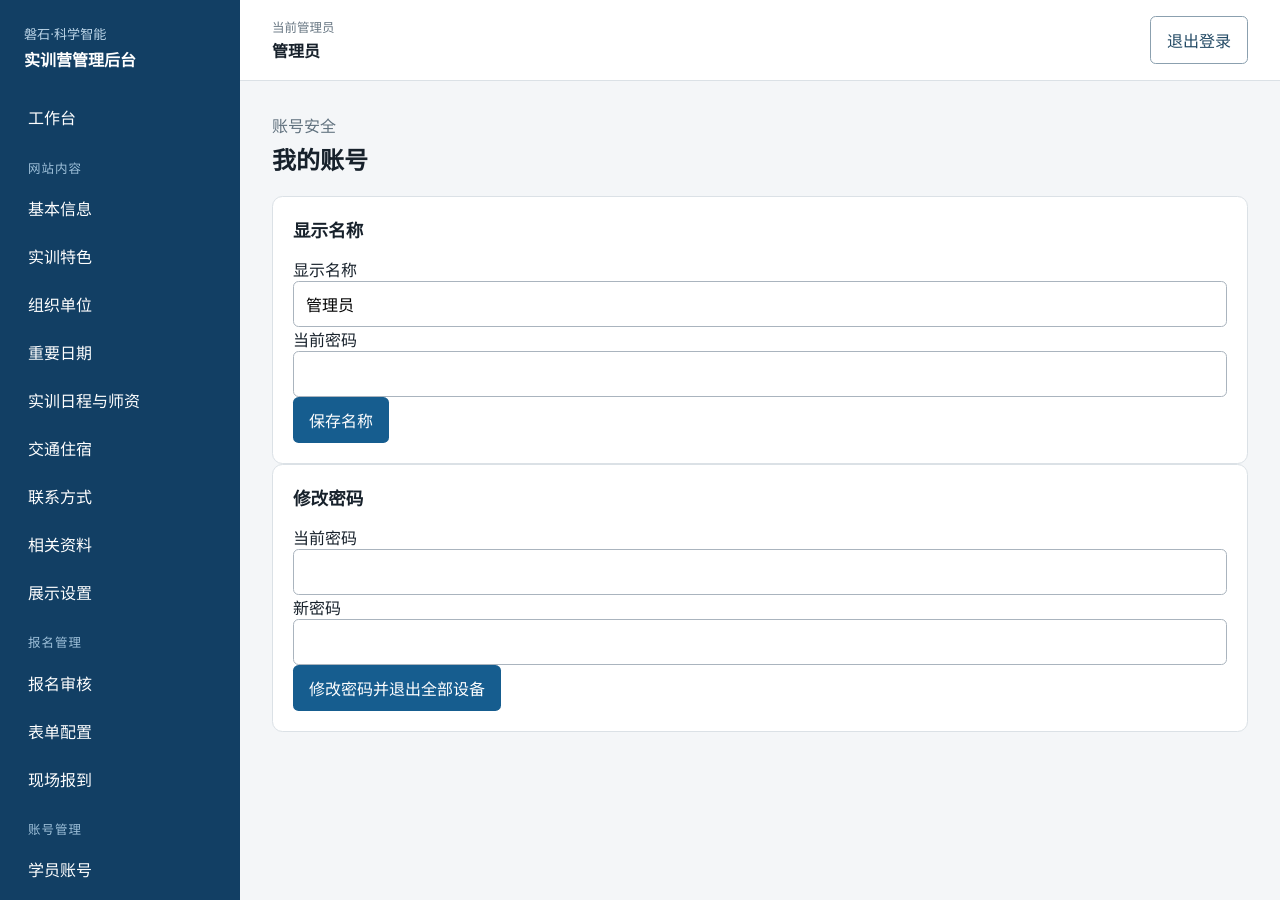
administrator route guard › changes the current administrator password and returns to login
This screenshot has width=1280, height=900.
Expected: the heading "我的账号" is shown, [272,141,368,176]
In the 2nd password field labelled "当前密码": [760, 572] box [293,549,1227,595], type "CurrentAdmin!2026"
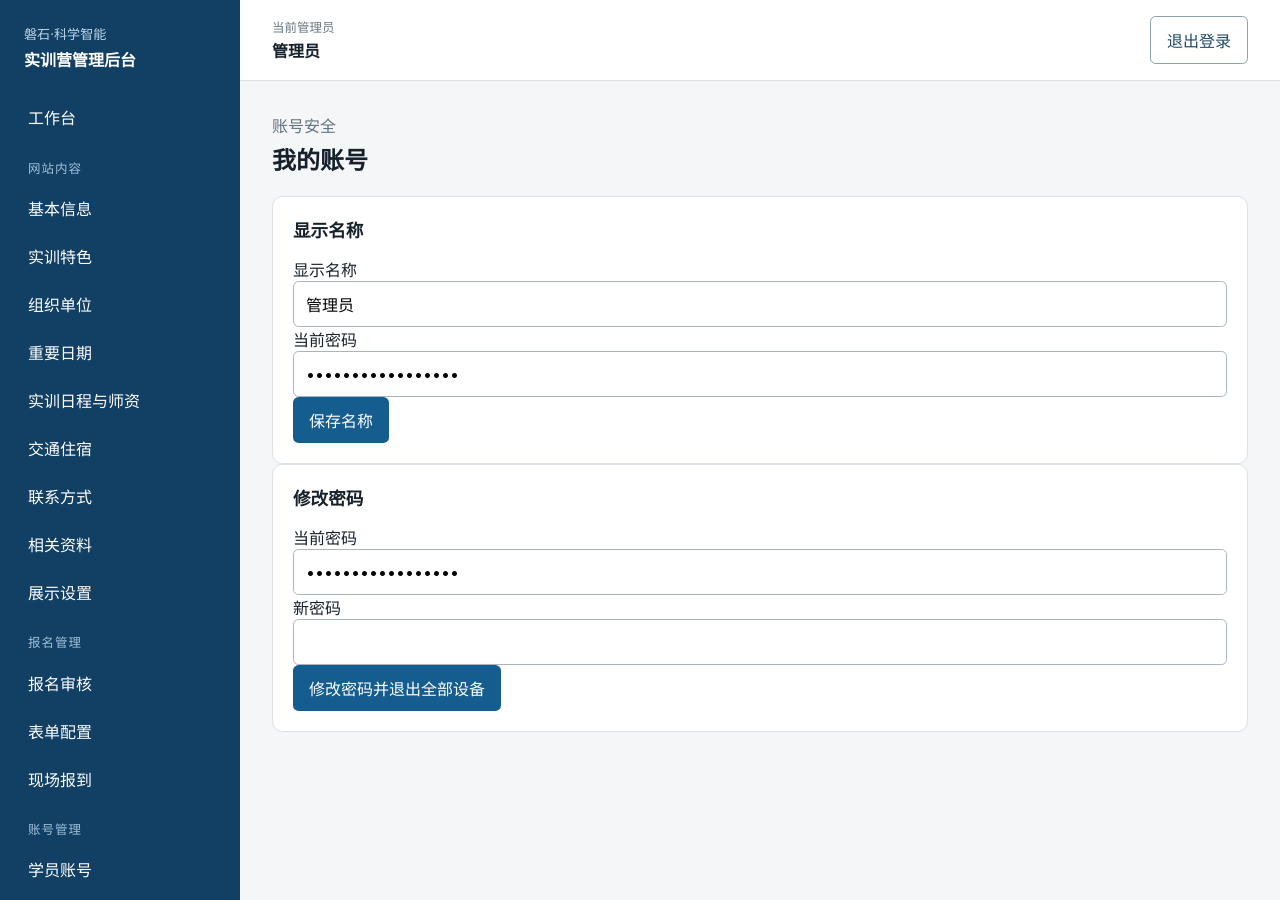
In the password field labelled "新密码": [760, 642] box [293,619,1227,665], type "ChangedAdmin!2026"
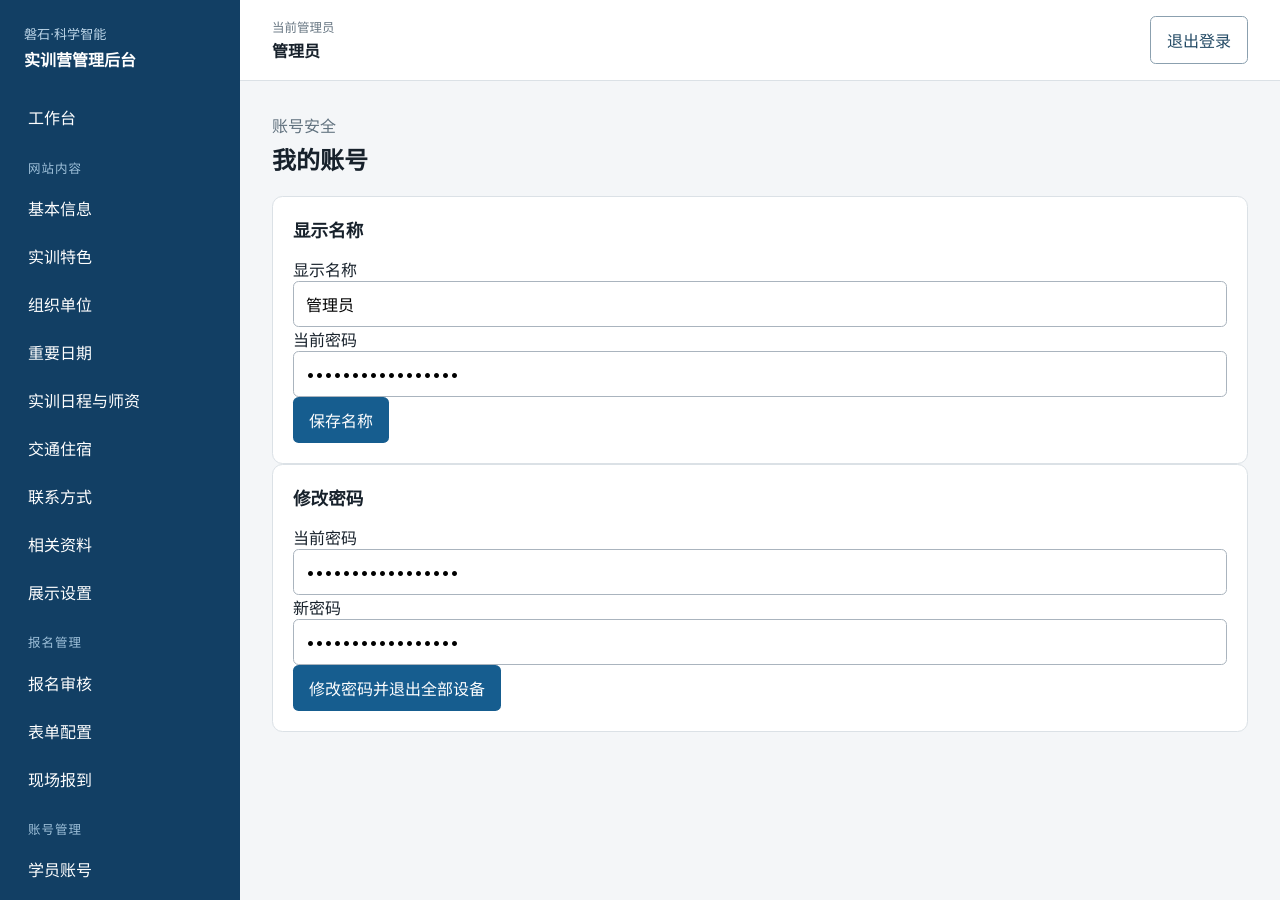
Click the button "修改密码并退出全部设备": [397, 688] box [293,665,501,711]
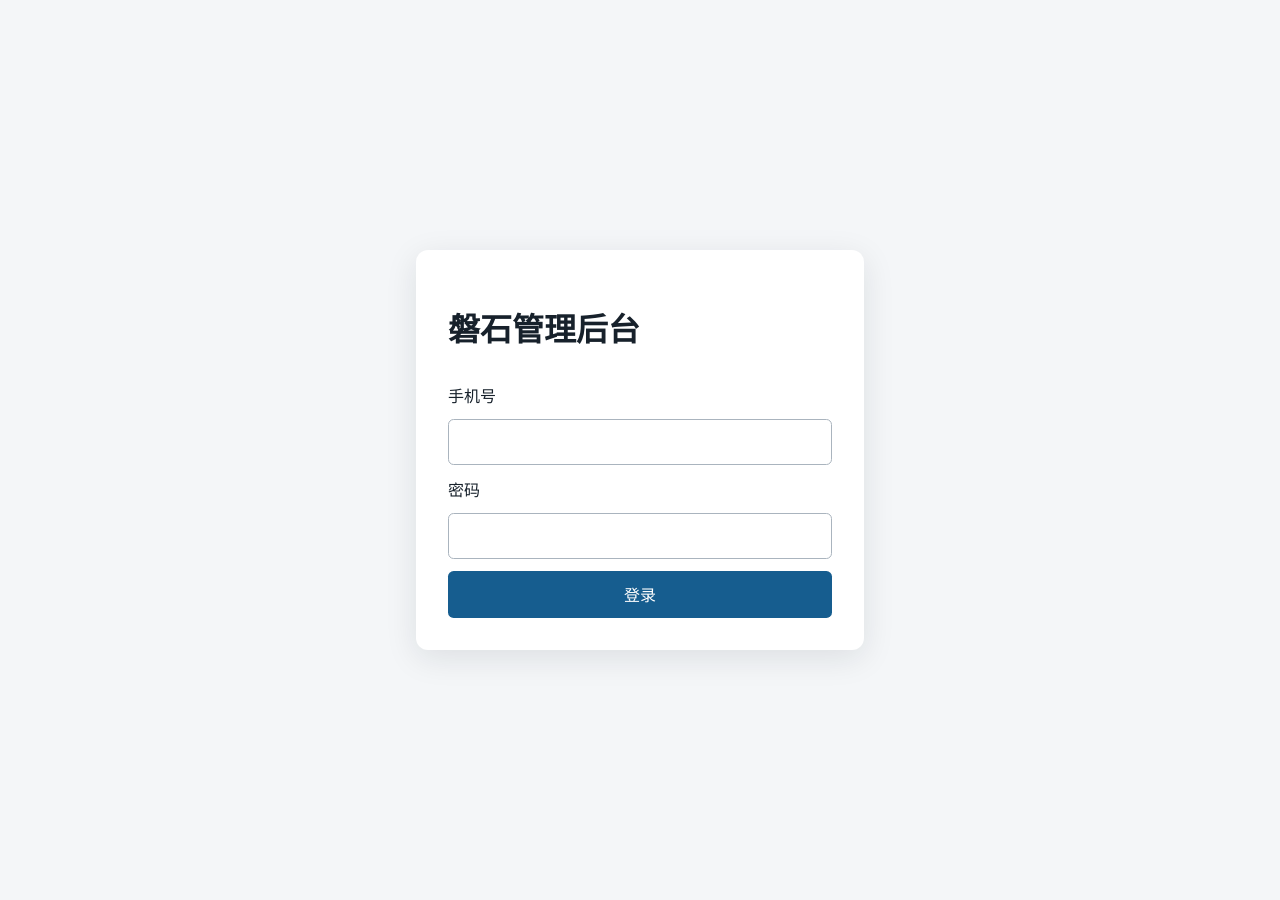
Expected: the field labelled "手机号" is shown, [448,419,832,465]
